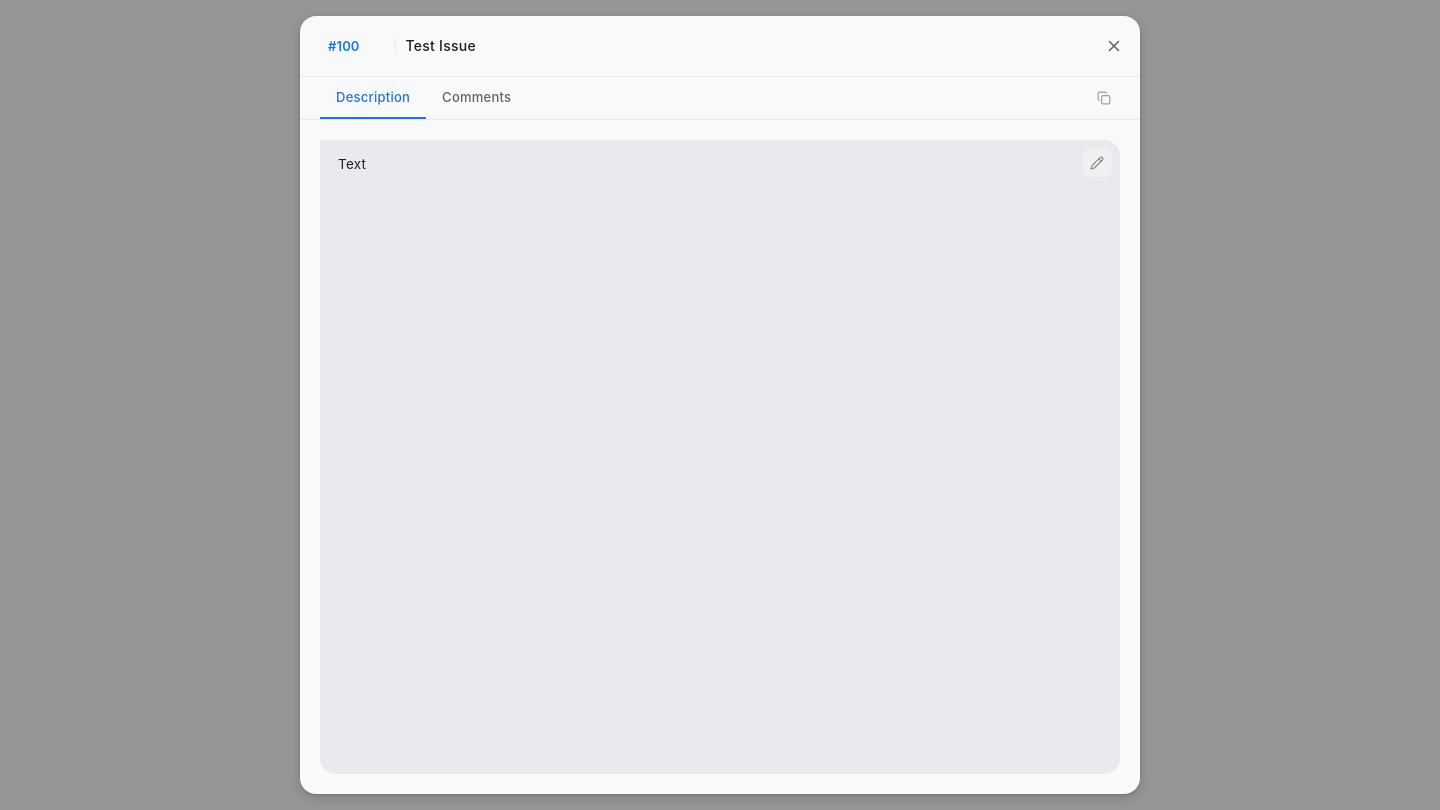
Test: ConversationDialog › error handling › error toast appears on save failure
Step 1. Click the button with class "conv-dialog__edit-btn" → (1097, 163), box [1082,148,1112,178]
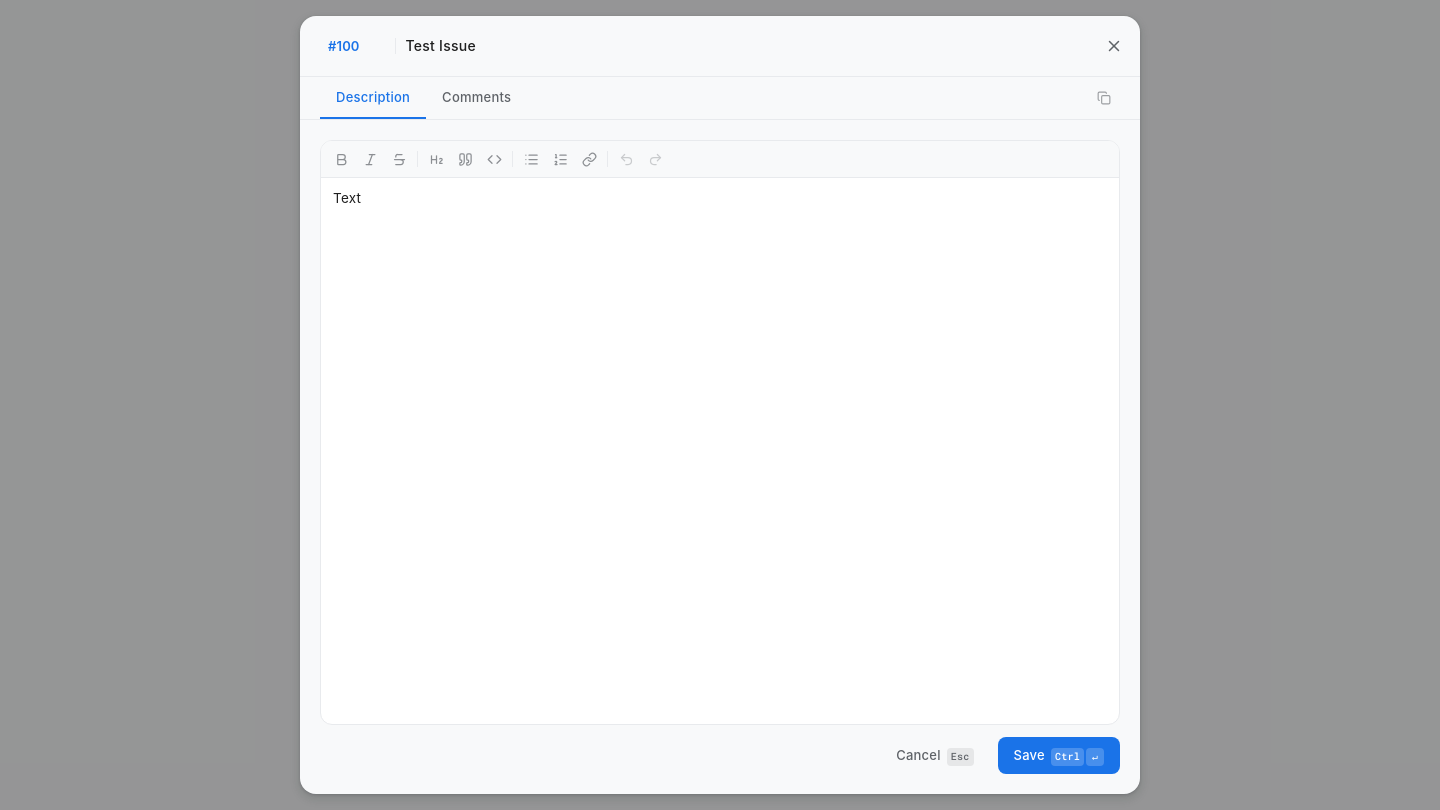
Step 2. Click the button "Save Ctrl ↵" → (1059, 756), box [998,737,1120,774]
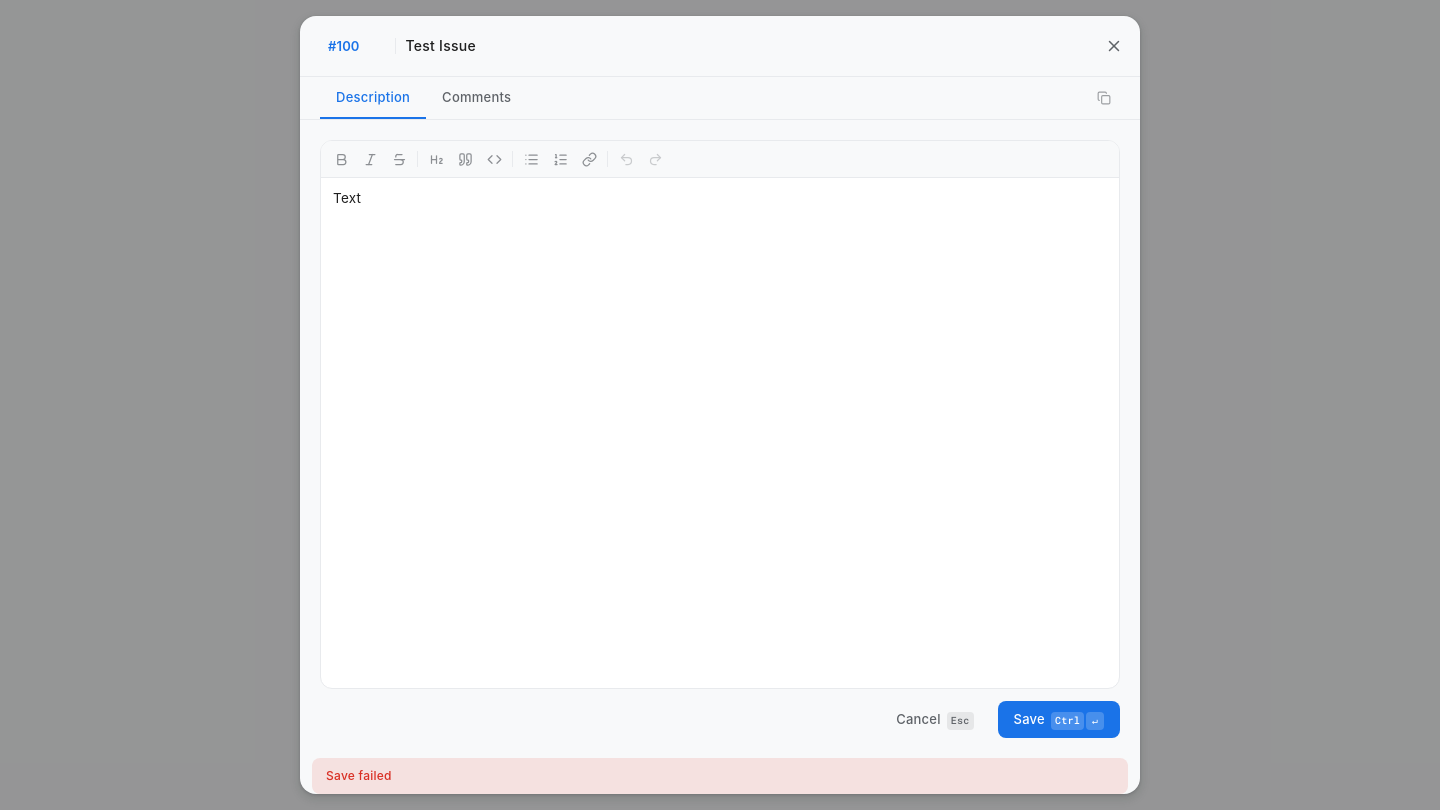
Expected: the text "Save failed" is shown, [312,758,1128,794]
